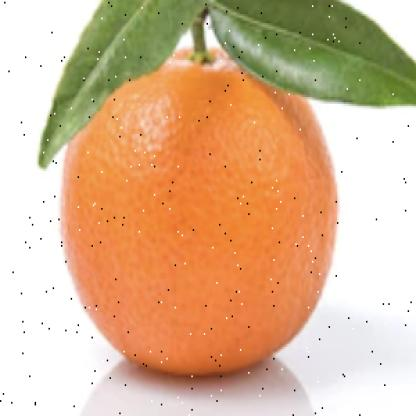fresh: (59, 32, 340, 383)
